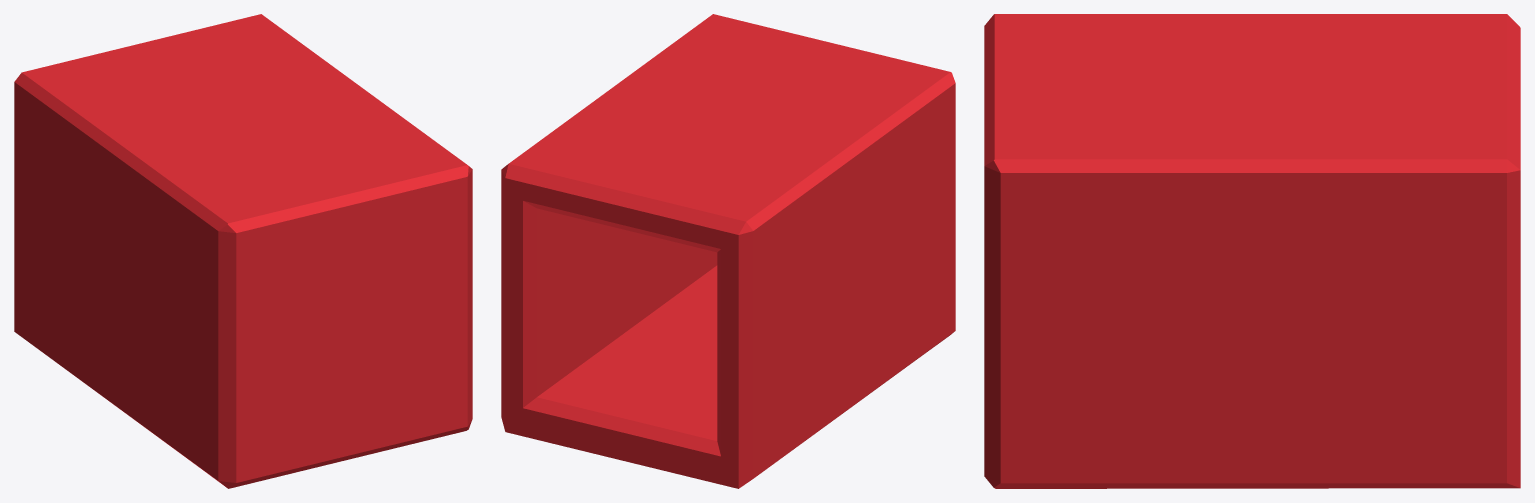
The model's file is Generator.fbx.
3 renders of one model, left to right at view 1: azimuth 30°, elevation 25°; view 2: azimuth 150°, elevation 25°; view 3: azimuth 270°, elevation 25°, orthographic. The views are drawn at different scales.
Visible parts, largest first — view 1: Cube; view 2: Cube; view 3: Cube.
Part boxes in pixels (box(x1,y1,x2,y2)): Cube: box(14, 14, 472, 488); Cube: box(501, 14, 955, 488); Cube: box(984, 14, 1520, 488).
Bounding box in the file's own units: 200 × 200 × 294.
